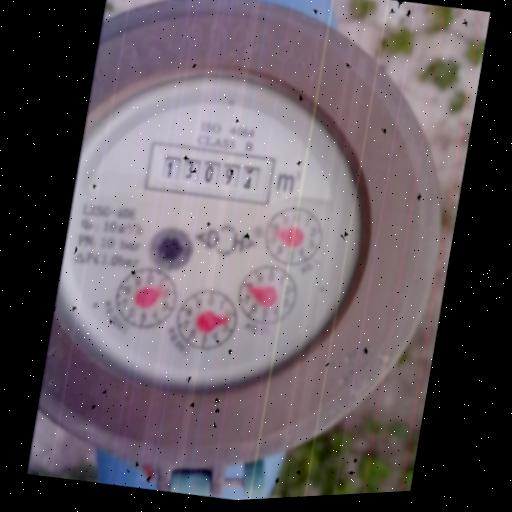0: (202, 161, 221, 186)
1: (161, 156, 180, 182)
3: (182, 158, 201, 183)
4: (242, 166, 259, 190)
9: (223, 164, 239, 188)
border_water_meter_number: (142, 134, 277, 211)
